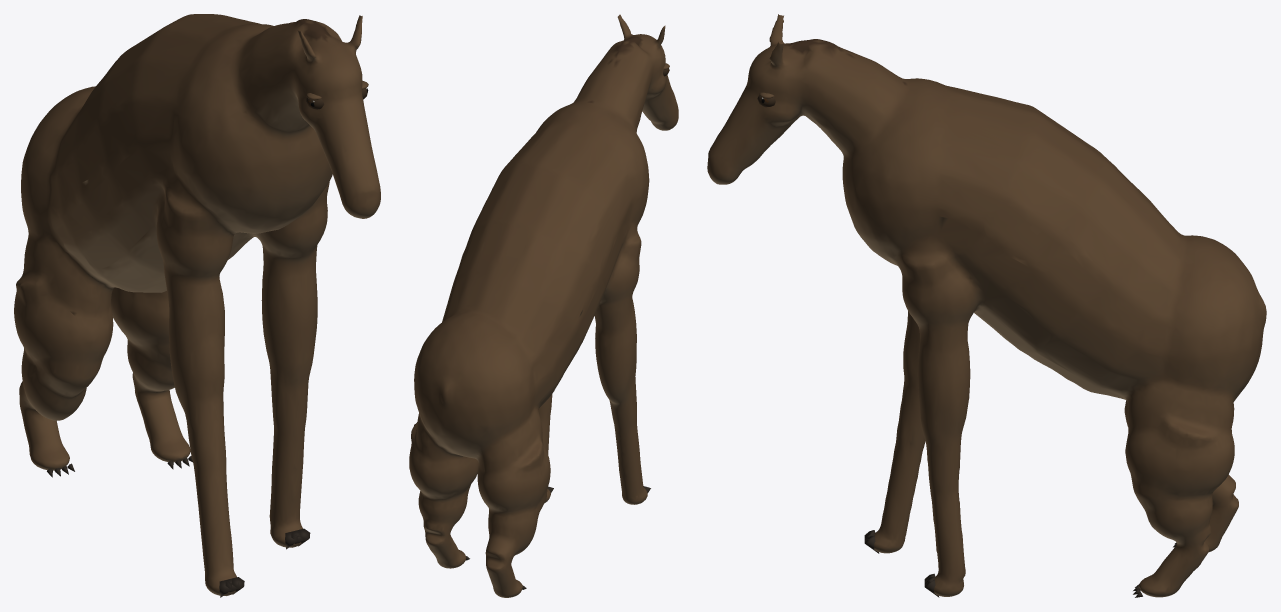
The model's file is ChalicotheriumGrande.fbx.
The picture shows the model from 3 angles, left to right: view 1: azimuth 30°, elevation 25°; view 2: azimuth 150°, elevation 25°; view 3: azimuth 270°, elevation 25°; orthographic projection. The views are drawn at different scales.
Visible parts, largest first — view 1: ChalicotheriumGrande; view 2: ChalicotheriumGrande; view 3: ChalicotheriumGrande.
Part boxes in pixels (left/top/right/bottom): ChalicotheriumGrande: left=14, top=14, right=380, bottom=597; ChalicotheriumGrande: left=409, top=14, right=678, bottom=597; ChalicotheriumGrande: left=707, top=14, right=1266, bottom=597.
Size of the model in its own units: 0.5406 by 1.8 by 1.68.
